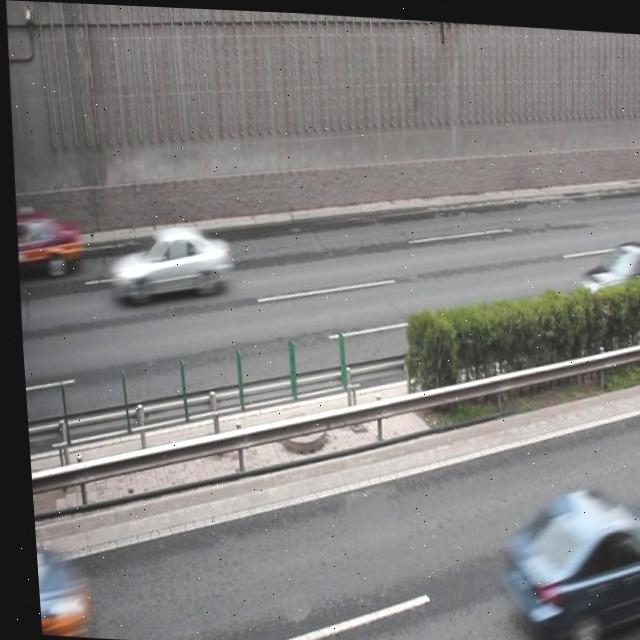car: (492, 477, 640, 640), (104, 218, 229, 305), (12, 202, 83, 278), (571, 234, 640, 309)
